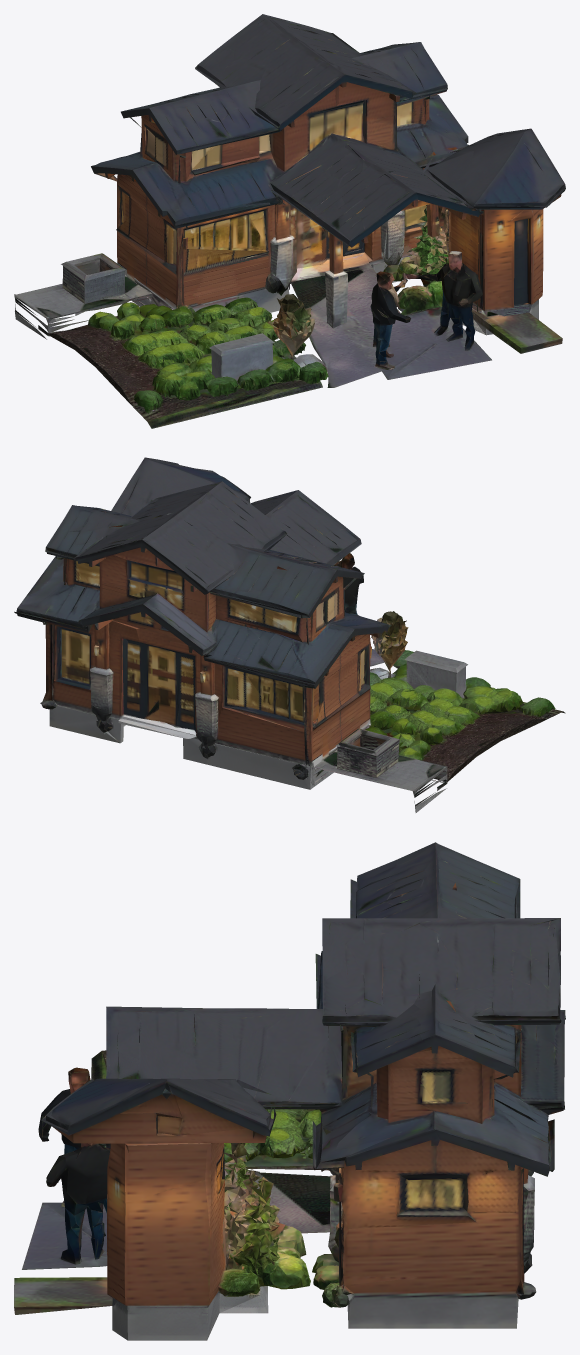
File: house-finished.glb
3 views of the same model, one above another, from view 1: azimuth 30°, elevation 25°; view 2: azimuth 150°, elevation 25°; view 3: azimuth 270°, elevation 25° (orthographic). The views are drawn at different scales.
Size of the model in its own units: 1.9 by 1.02 by 1.53.
Materials: 1 (1 with a texture image).
